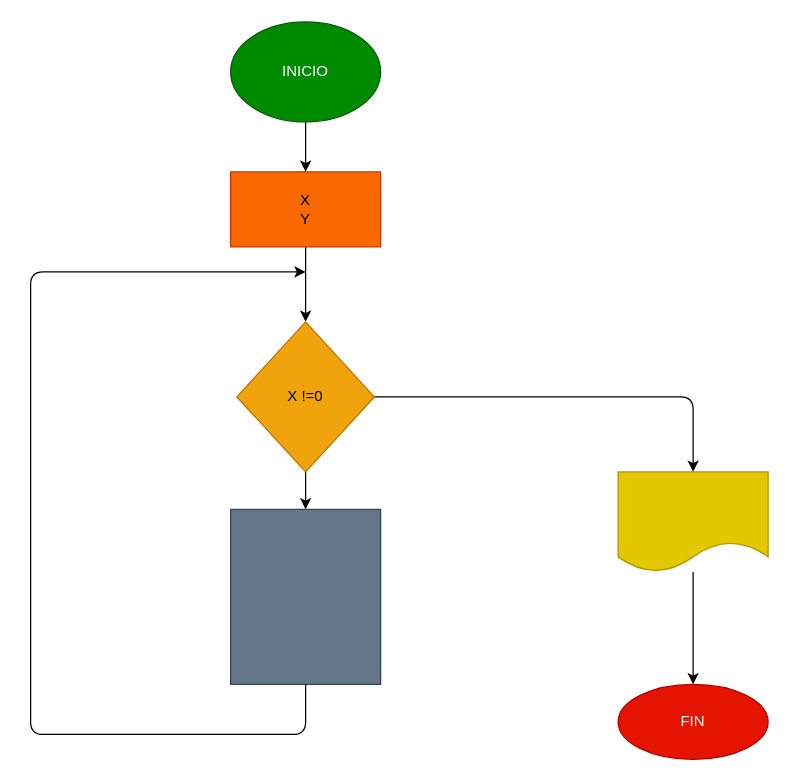
Image size: 790x781. Some labels were removed from this diagram. Here are the shapes that lost their labels. From the top down, the centre of each, then its label:
At [692,521]: "N Y".
At [305,596]: "N = N * X X = X - 1".
